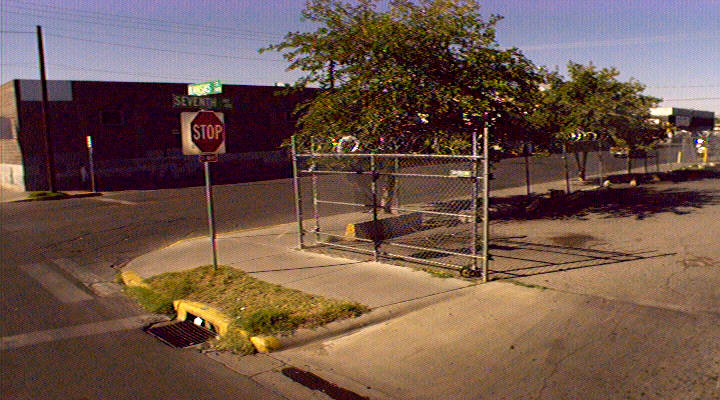Ramp: (109, 231, 295, 283)
